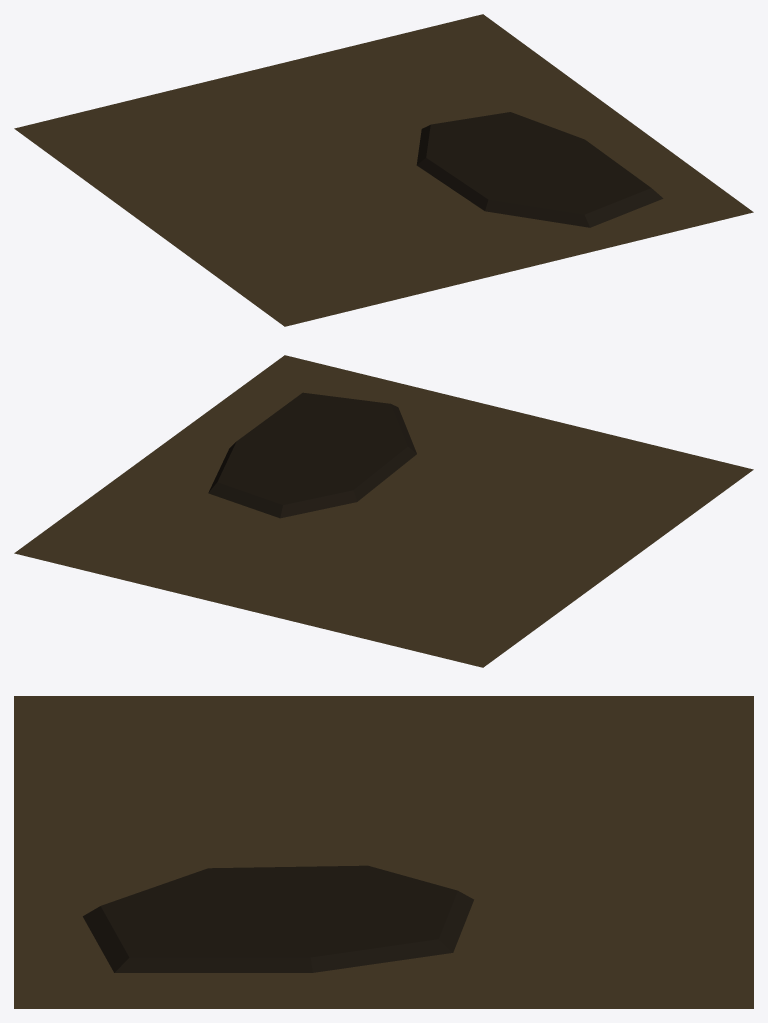
The model's file is Floor.004.fbx.
3 renders of one model, top to bottom at view 1: azimuth 30°, elevation 25°; view 2: azimuth 150°, elevation 25°; view 3: azimuth 270°, elevation 25°, orthographic. The views are drawn at different scales.
Parts seen in each view (by area): view 1: Floor.004; view 2: Floor.004; view 3: Floor.004.
Boxes of the visible parts, x1,y1,x2,y2 form: Floor.004: [14, 14, 753, 326]; Floor.004: [14, 355, 753, 667]; Floor.004: [14, 696, 753, 1008].
Bounding box in the file's own units: 100 × 3.3 × 100.
